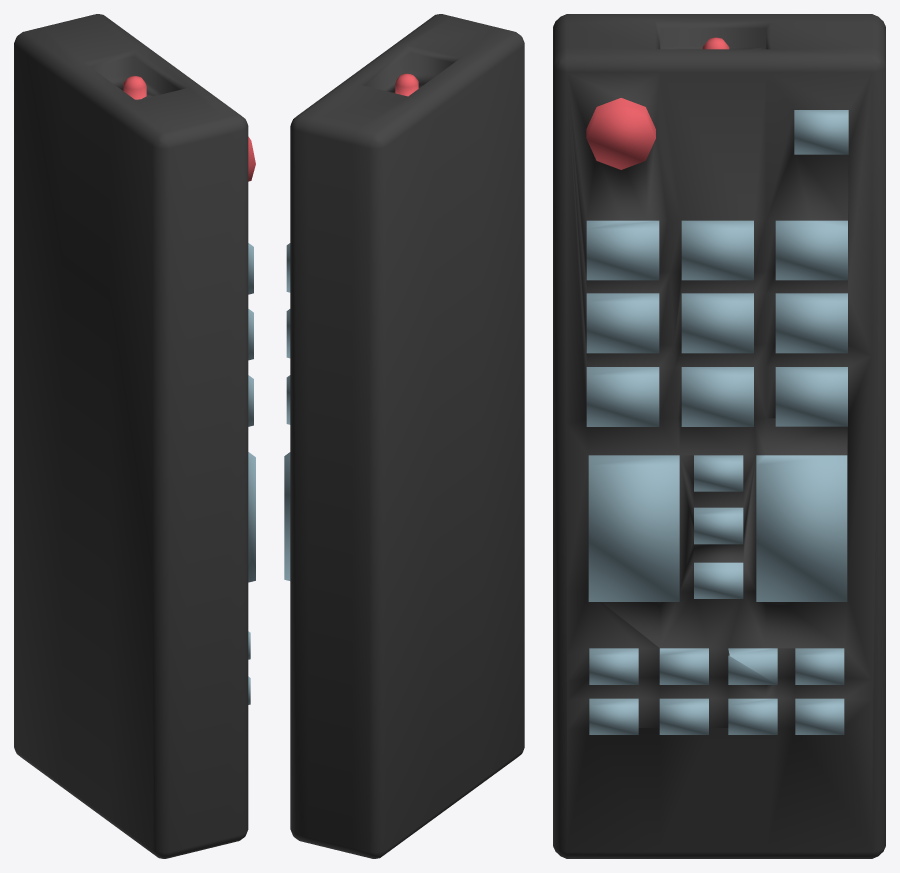
File: telecomando.fbx
3 views of the same model, side by side, from view 1: azimuth 30°, elevation 25°; view 2: azimuth 150°, elevation 25°; view 3: azimuth 270°, elevation 25° (orthographic). The views are drawn at different scales.
Visible parts, largest first — view 1: Cube.037; view 2: Cube.037; view 3: Cube.037.
Part boxes in pixels (x1,y1,x2,y2): Cube.037: [14, 14, 255, 858]; Cube.037: [284, 14, 524, 858]; Cube.037: [553, 14, 885, 858].
Size of the model in its own units: 6.74 by 41.24 by 15.46.
